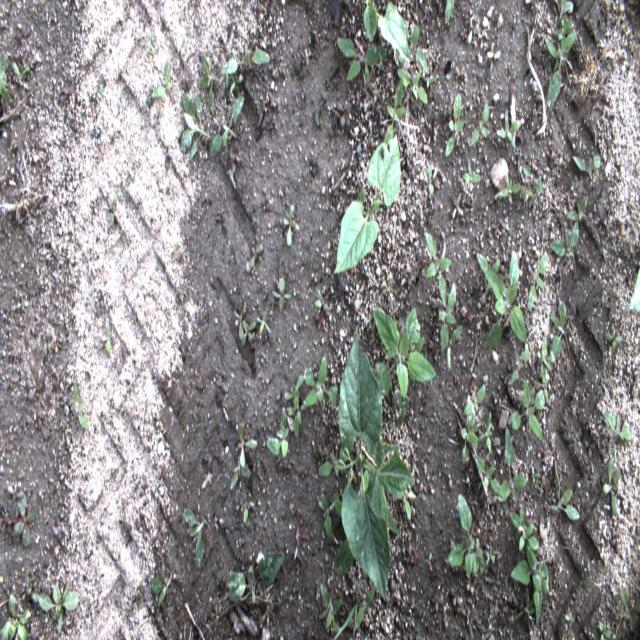crop: (338, 332, 417, 606), (330, 134, 401, 276), (363, 1, 414, 67)
weed: (454, 382, 543, 544), (368, 304, 440, 402), (181, 58, 250, 159), (473, 250, 530, 349), (420, 222, 462, 348), (444, 490, 492, 578), (227, 546, 287, 608), (505, 370, 554, 444), (538, 24, 577, 115), (228, 427, 261, 526), (507, 549, 553, 619), (31, 564, 82, 627), (532, 299, 577, 370), (208, 86, 243, 165), (2, 481, 40, 552), (336, 27, 384, 82), (300, 350, 340, 415), (220, 35, 276, 76), (544, 216, 582, 272), (185, 501, 214, 571), (410, 13, 434, 90), (497, 100, 529, 157), (232, 303, 272, 348), (393, 65, 432, 109), (285, 368, 308, 440), (447, 84, 469, 158), (0, 33, 23, 103), (570, 149, 604, 194), (147, 567, 183, 609), (319, 577, 344, 637), (545, 483, 582, 523), (602, 446, 624, 512), (2, 590, 34, 634), (266, 422, 302, 460), (600, 407, 633, 448), (516, 166, 548, 206), (530, 258, 550, 321), (68, 374, 90, 431), (278, 195, 302, 246), (470, 92, 493, 145), (384, 79, 407, 129), (272, 270, 294, 318), (316, 494, 338, 542), (149, 60, 175, 100), (496, 173, 522, 205), (244, 235, 265, 273), (462, 166, 483, 184)
